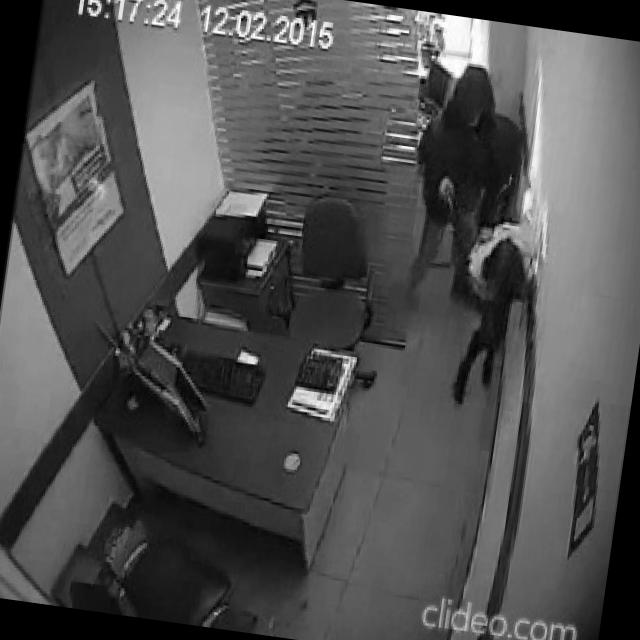gun: (437, 175, 462, 222)
person: (446, 192, 550, 418)
person with a gun: (397, 56, 530, 313)
